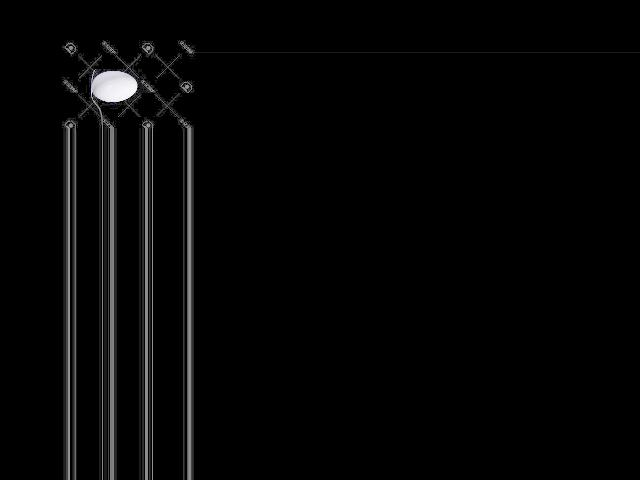egg: (91, 71, 136, 102)
